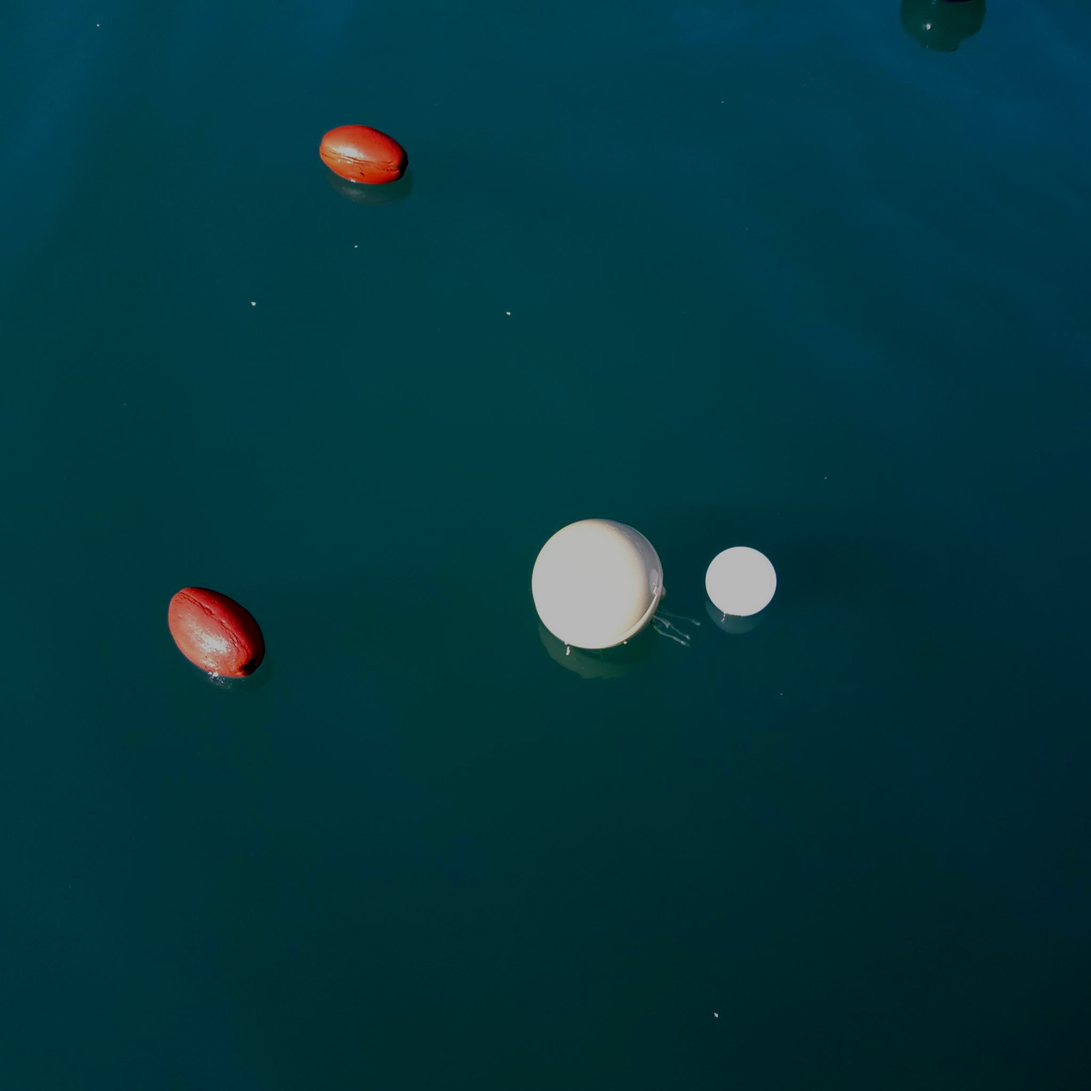sampah_terapung: (532, 519, 667, 649), (169, 588, 265, 678), (320, 126, 409, 184), (706, 547, 777, 617), (649, 605, 702, 648)
